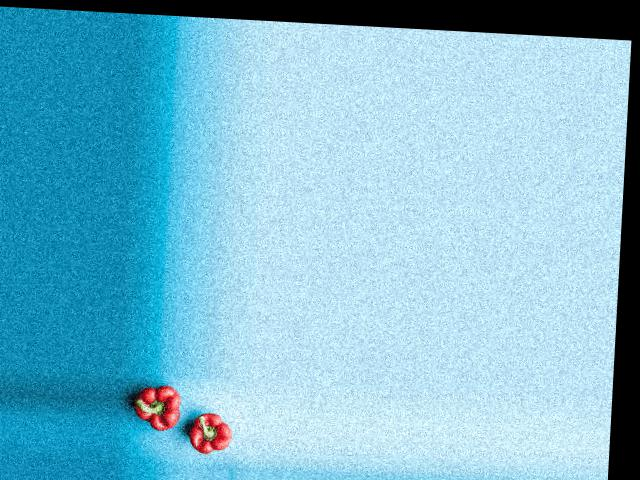bell_pepper: (127, 384, 190, 437)
